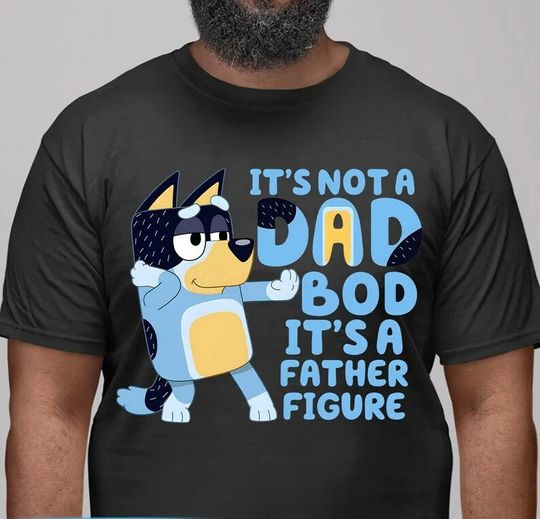design: (113, 165, 424, 426)
